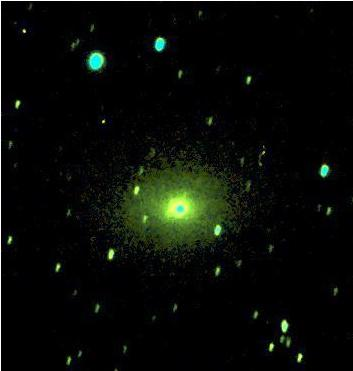star: (172, 173, 202, 203)
